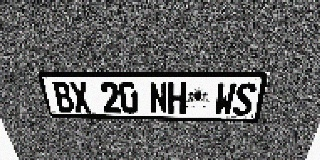0: (118, 82, 138, 114)
2: (100, 82, 121, 113)
B: (51, 81, 75, 112)
H: (168, 82, 186, 114)
N: (149, 82, 167, 114)
S: (232, 82, 257, 116)
W: (214, 82, 237, 115)
X: (68, 81, 92, 113)
